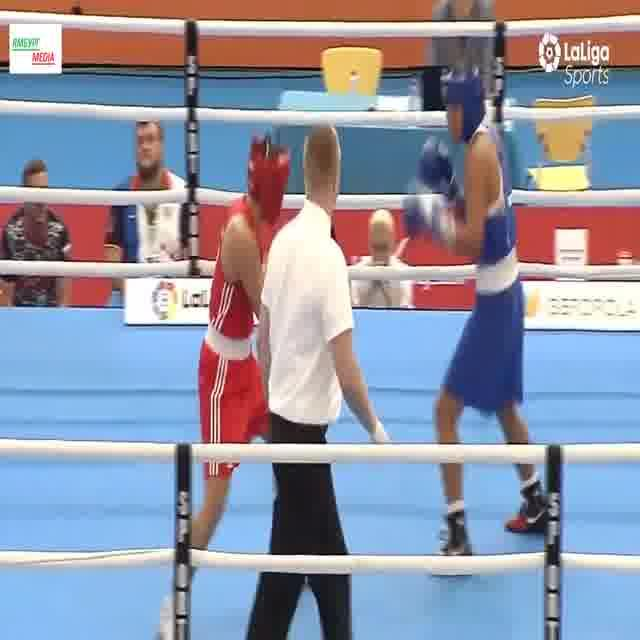blue-player: (400, 61, 556, 579)
red-player: (156, 129, 320, 640)
referee: (250, 121, 392, 640)
